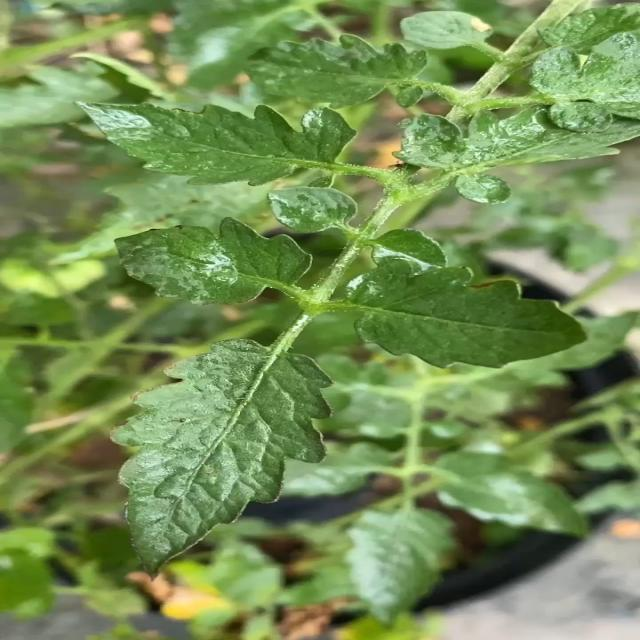Tomato_Healthy: (82, 338, 336, 565), (65, 86, 359, 186), (358, 254, 592, 375), (102, 220, 311, 310)
